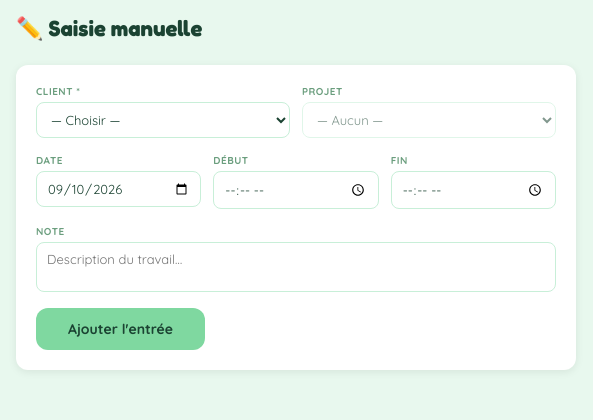
Test case: Saisie › affiche une erreur si les heures sont manquantes
Select "Studio Lumière" in the dropdown labelled "Client *" at [163, 120], box [36,102,290,138]
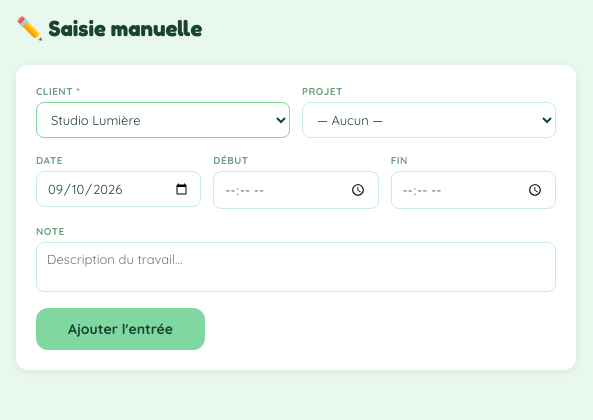
Click the button "Ajouter l'entrée" at [120, 329], box [36,308,205,350]
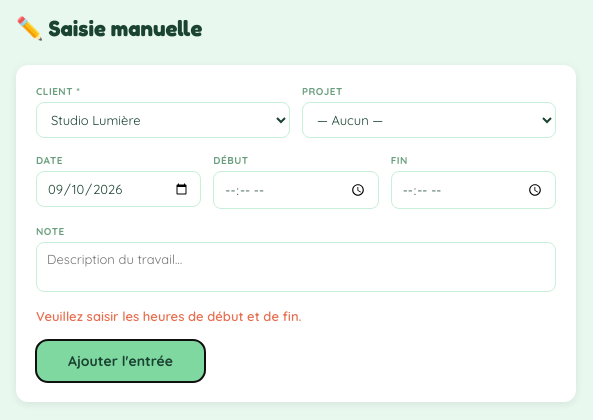
Expected: the message shows "heure", [36,308,302,324]
